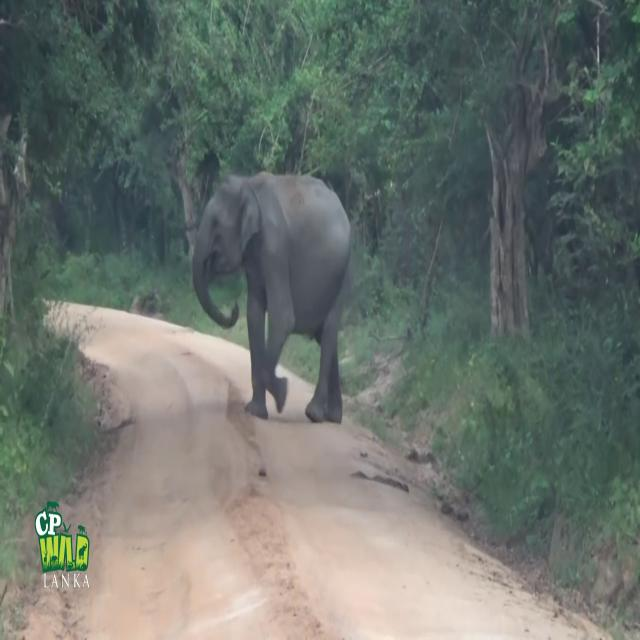Elephant: (192, 170, 352, 424)
